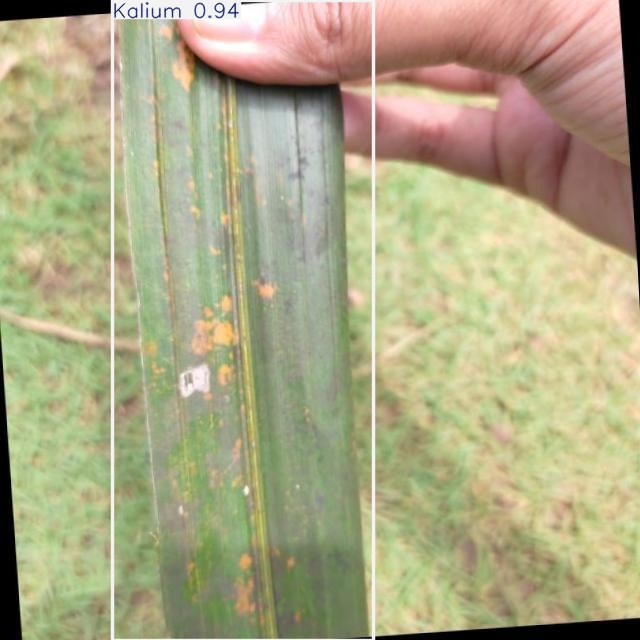Kalium: (112, 0, 373, 640)
